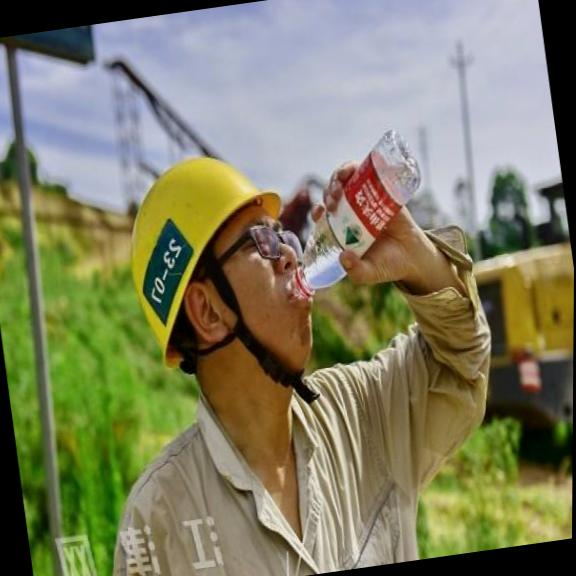no_safety_vest: (144, 355, 426, 576)
